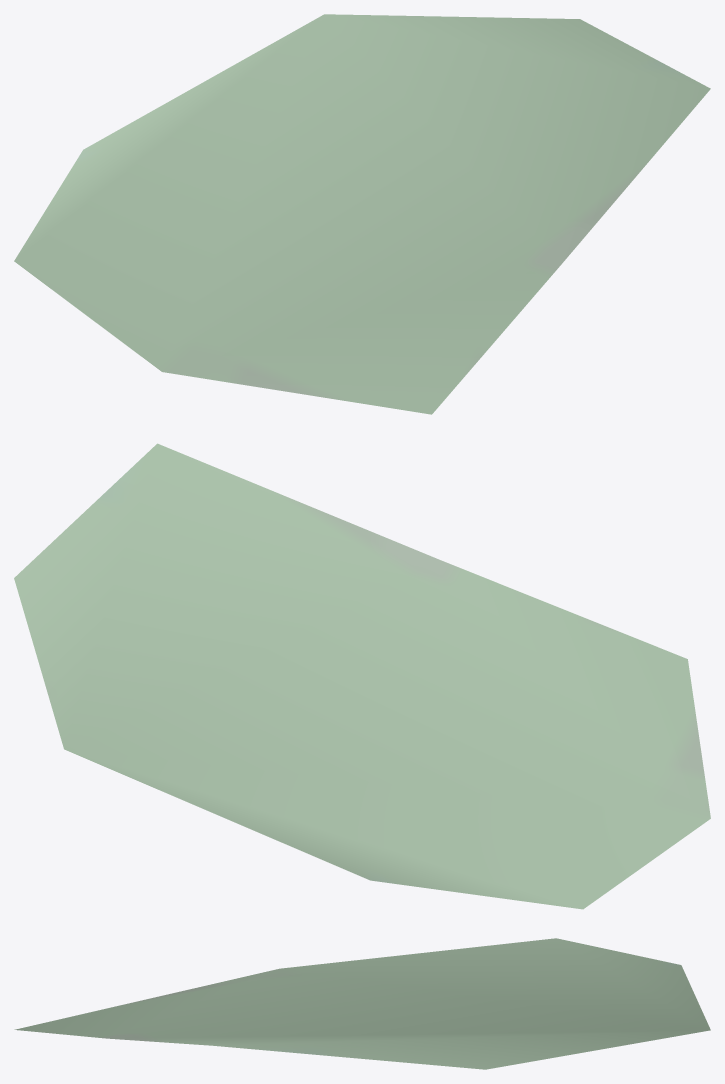
The model's file is TROLLHOLE02_HOLECAP95.fbx.
3 views of the same model, one above another, from view 1: azimuth 30°, elevation 25°; view 2: azimuth 150°, elevation 25°; view 3: azimuth 270°, elevation 25° (orthographic). The views are drawn at different scales.
Parts seen in each view (by area): view 1: TROLLHOLE02_HOLECAP95; view 2: TROLLHOLE02_HOLECAP95; view 3: TROLLHOLE02_HOLECAP95.
Boxes of the visible parts, left/top/right/bottom form: TROLLHOLE02_HOLECAP95: left=14, top=14, right=710, bottom=414; TROLLHOLE02_HOLECAP95: left=14, top=443, right=710, bottom=909; TROLLHOLE02_HOLECAP95: left=14, top=938, right=710, bottom=1069.
Size of the model in its own units: 18677 by 6003 by 19797.
Materials: 1 (1 with a texture image).
